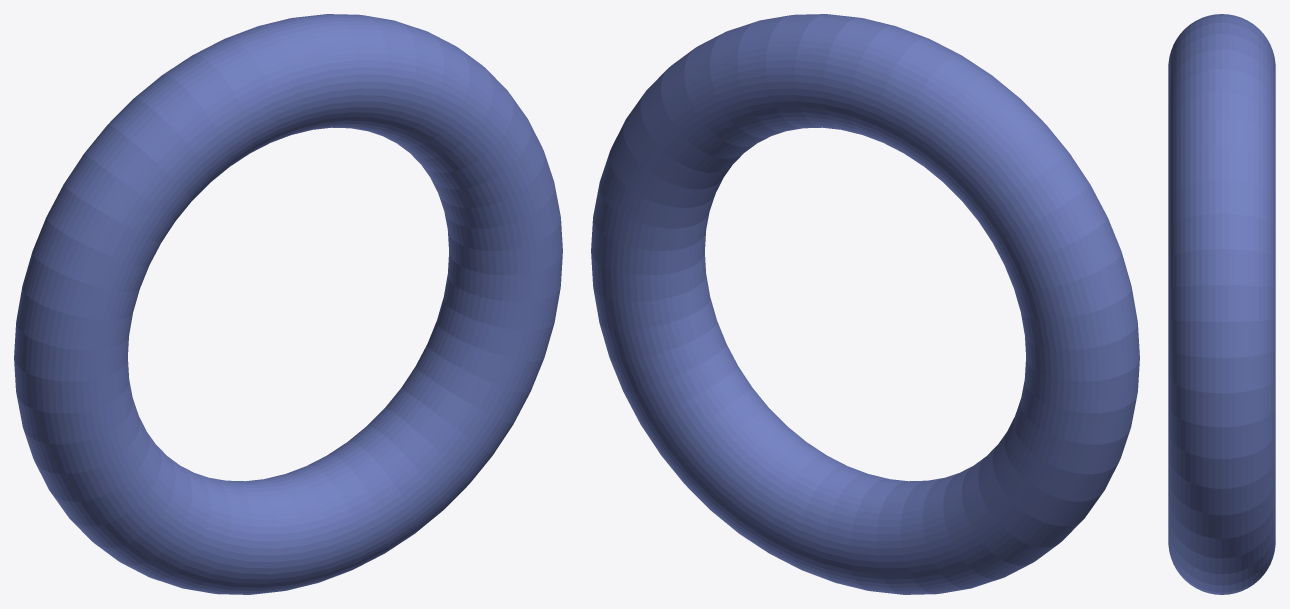
The picture shows the model from 3 angles, left to right: view 1: azimuth 30°, elevation 25°; view 2: azimuth 150°, elevation 25°; view 3: azimuth 270°, elevation 25°; orthographic projection. The views are drawn at different scales.
Parts seen in each view (by area): view 1: world; view 2: world; view 3: world.
Part boxes in pixels (x1,y1,x2,y2): world: (14, 14, 562, 594); world: (591, 14, 1139, 594); world: (1168, 14, 1275, 594).
Size of the model in its own units: 12.27 by 12.24 by 2.26.
